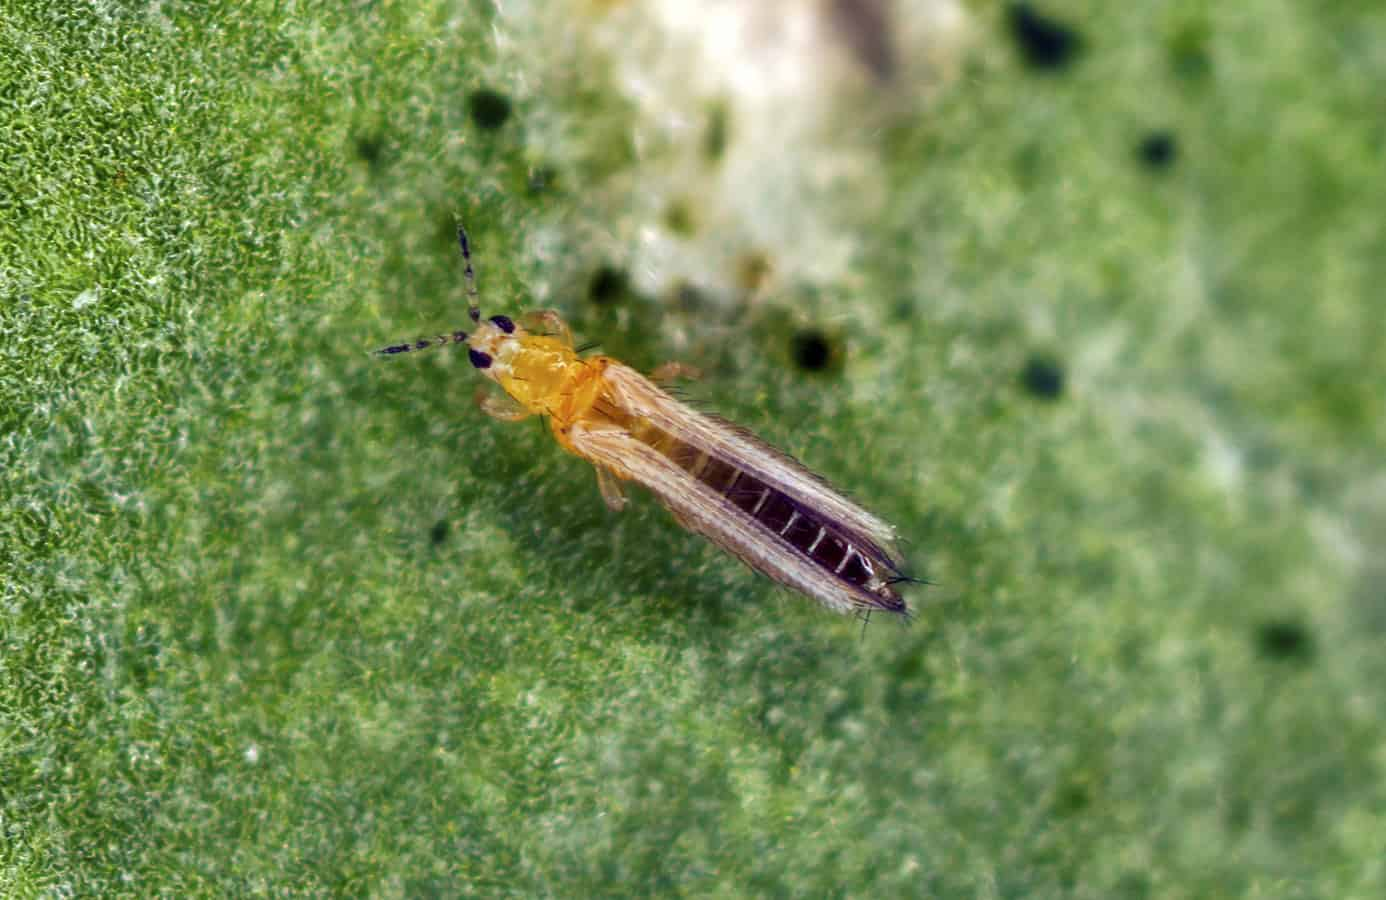Thrips: (389, 211, 968, 685)
